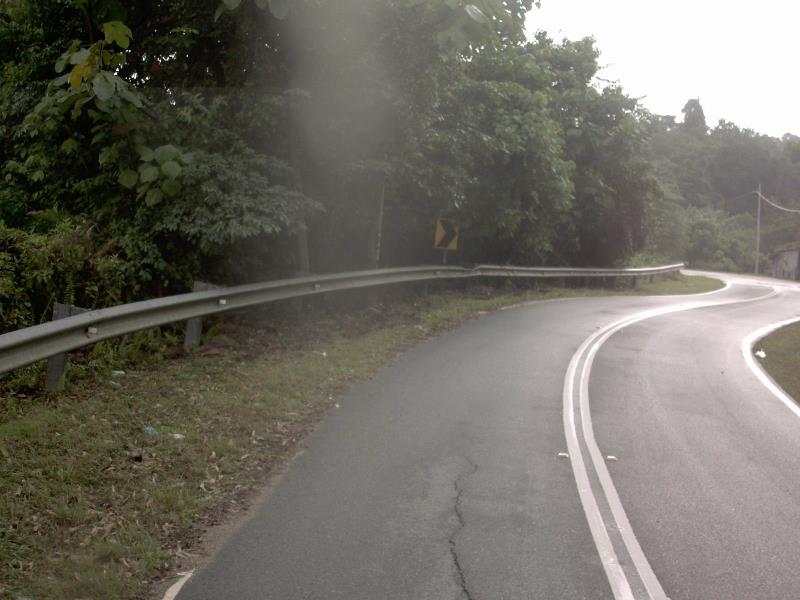traffic_sign: (426, 211, 464, 258)
